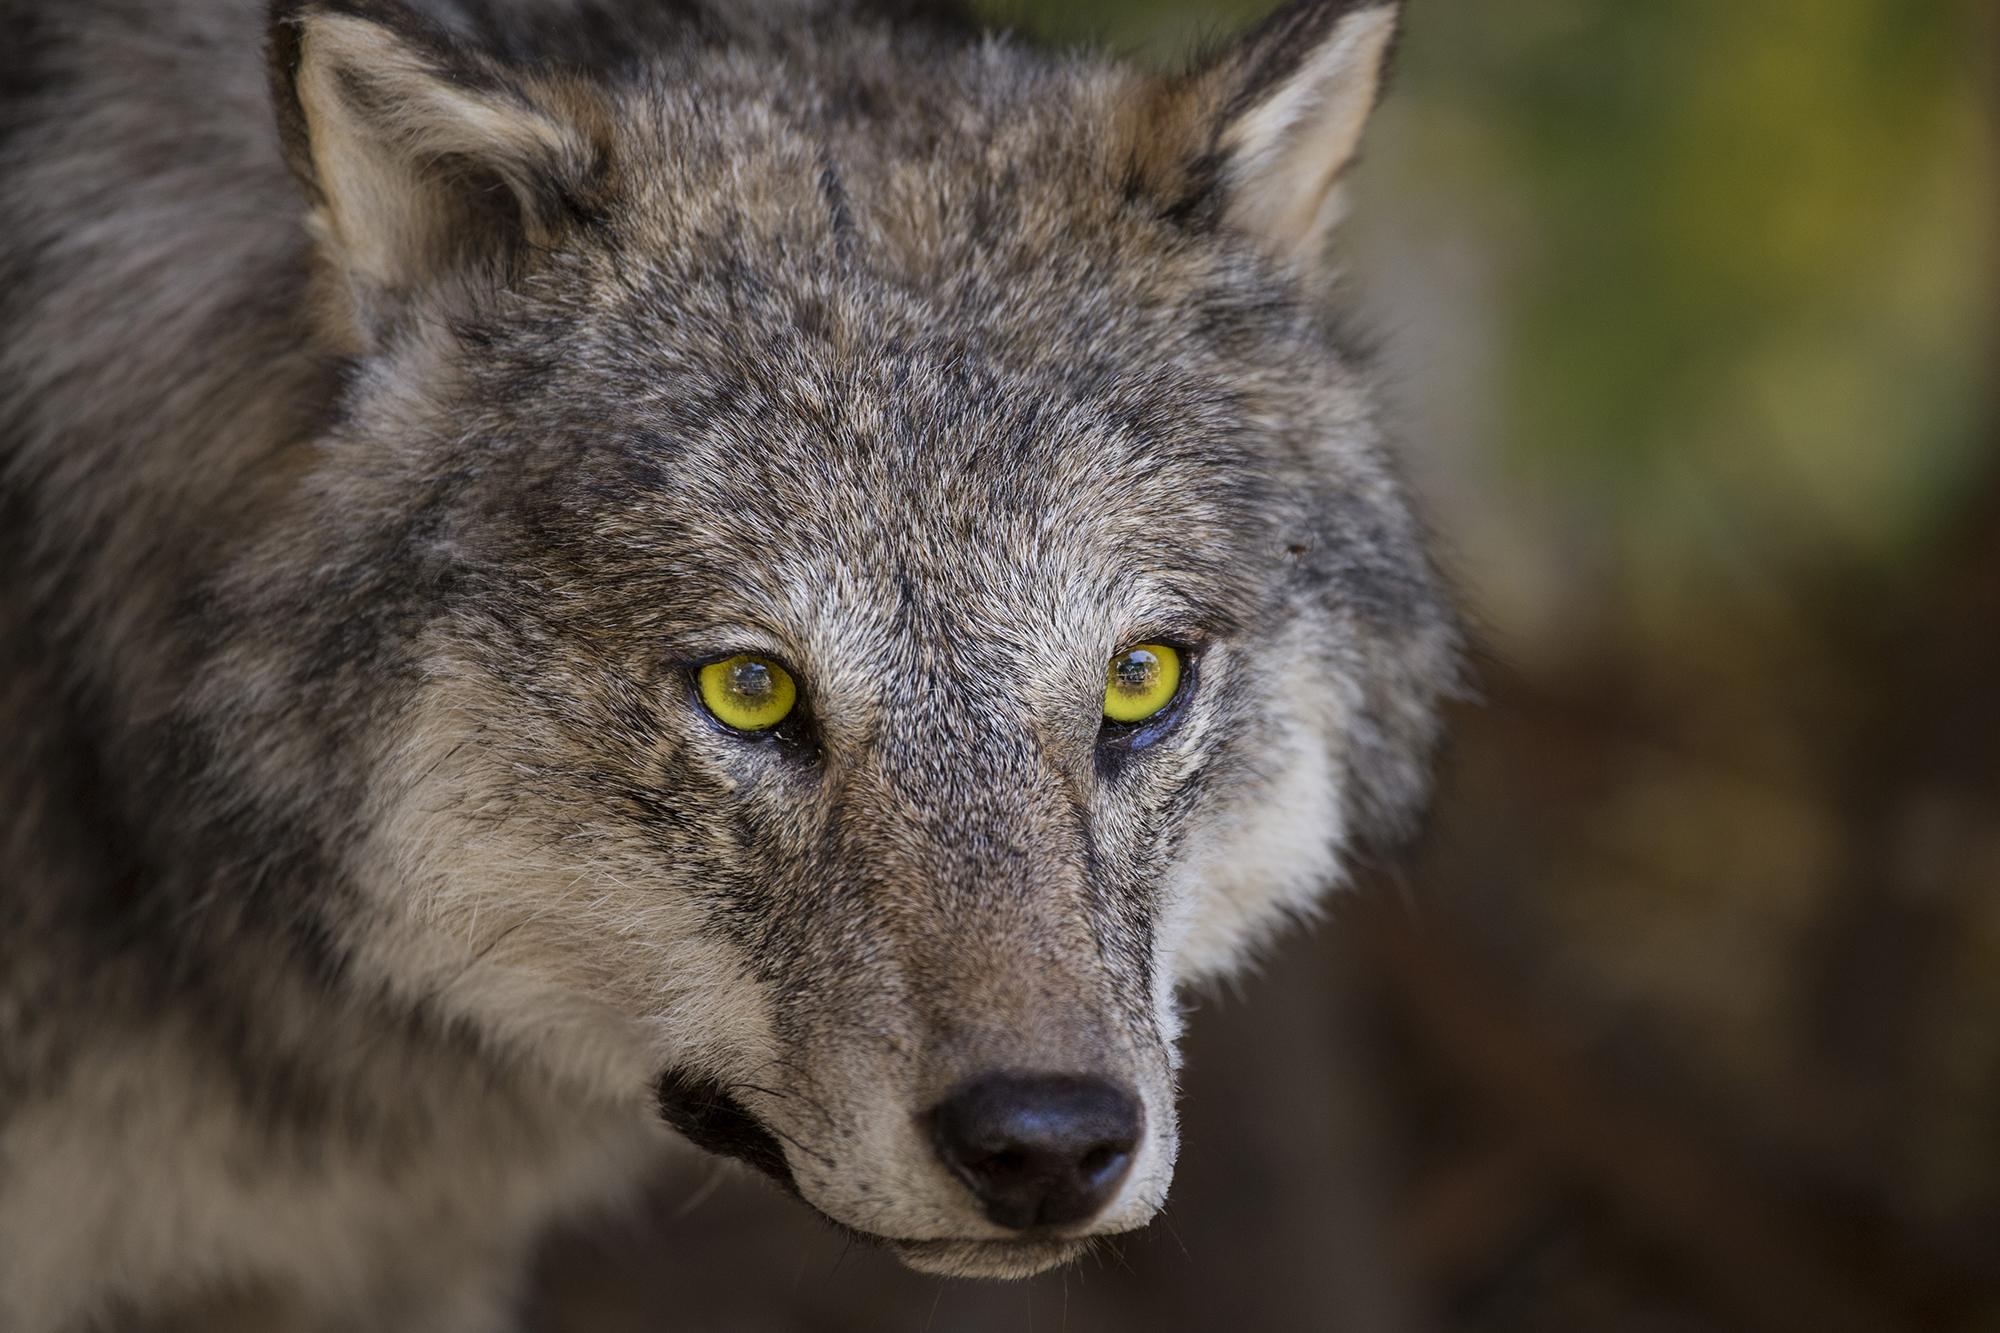Wolf: (31, 6, 1460, 1302)
